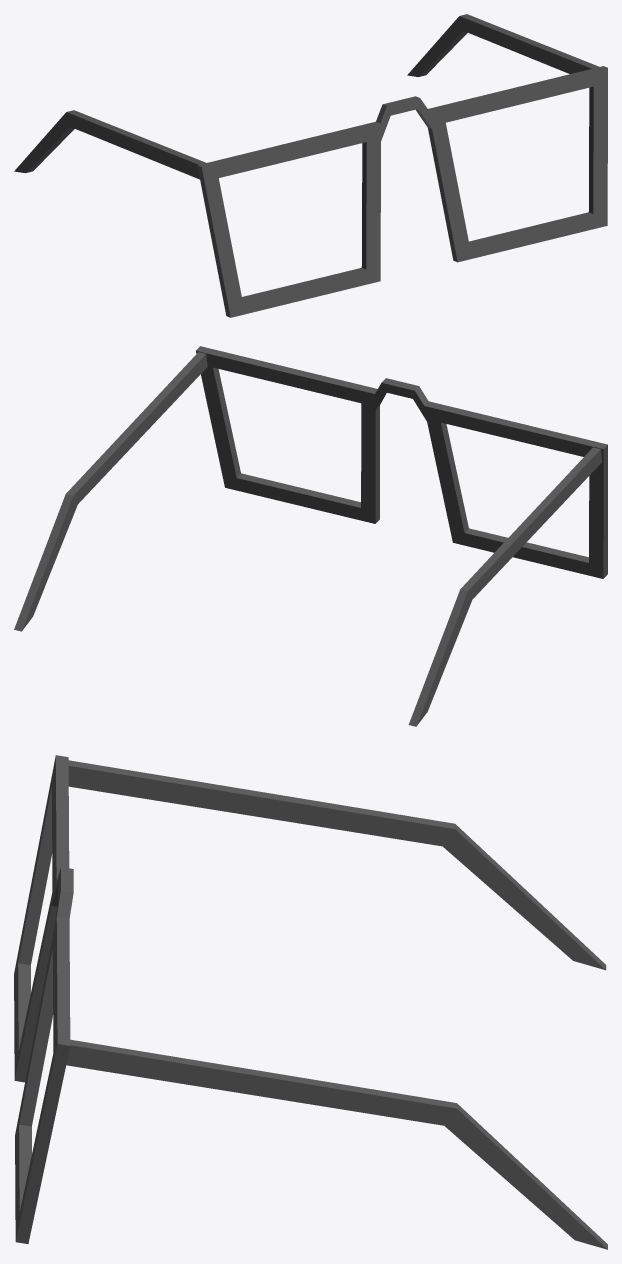
Rendered from Glasses_2.fbx.
3 renders of one model, top to bottom at view 1: azimuth 30°, elevation 25°; view 2: azimuth 150°, elevation 25°; view 3: azimuth 270°, elevation 25°, orthographic. The views are drawn at different scales.
Visible parts, largest first — view 1: Glasses_2; view 2: Glasses_2; view 3: Glasses_2.
Boxes of the visible parts, x1,y1,x2,y2 form: Glasses_2: (14,14,607,317); Glasses_2: (14,346,607,726); Glasses_2: (14,755,607,1249).
Size of the model in its own units: 18.33 by 15.97 by 6.88.
